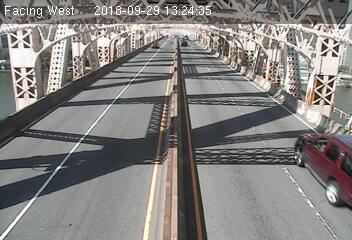car: (290, 129, 352, 215), (149, 42, 164, 51), (178, 37, 190, 47)
